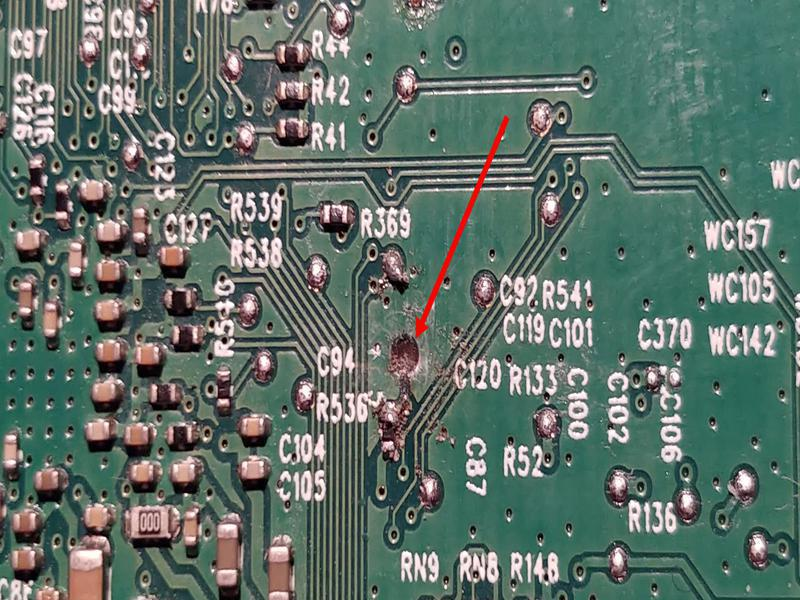SMD capacitor: (69, 549, 104, 600), (214, 515, 237, 588), (265, 543, 290, 595), (158, 242, 189, 271), (96, 340, 124, 368), (135, 339, 163, 366), (130, 461, 156, 488), (31, 471, 60, 495), (84, 419, 109, 446), (3, 430, 20, 469), (235, 461, 266, 482), (84, 505, 111, 529), (173, 465, 198, 490), (88, 382, 116, 404), (237, 417, 264, 439), (125, 426, 156, 444)
SMD resistor: (133, 508, 170, 544), (276, 40, 308, 71), (279, 77, 308, 105), (215, 366, 231, 408), (279, 118, 312, 137), (324, 205, 346, 225)
